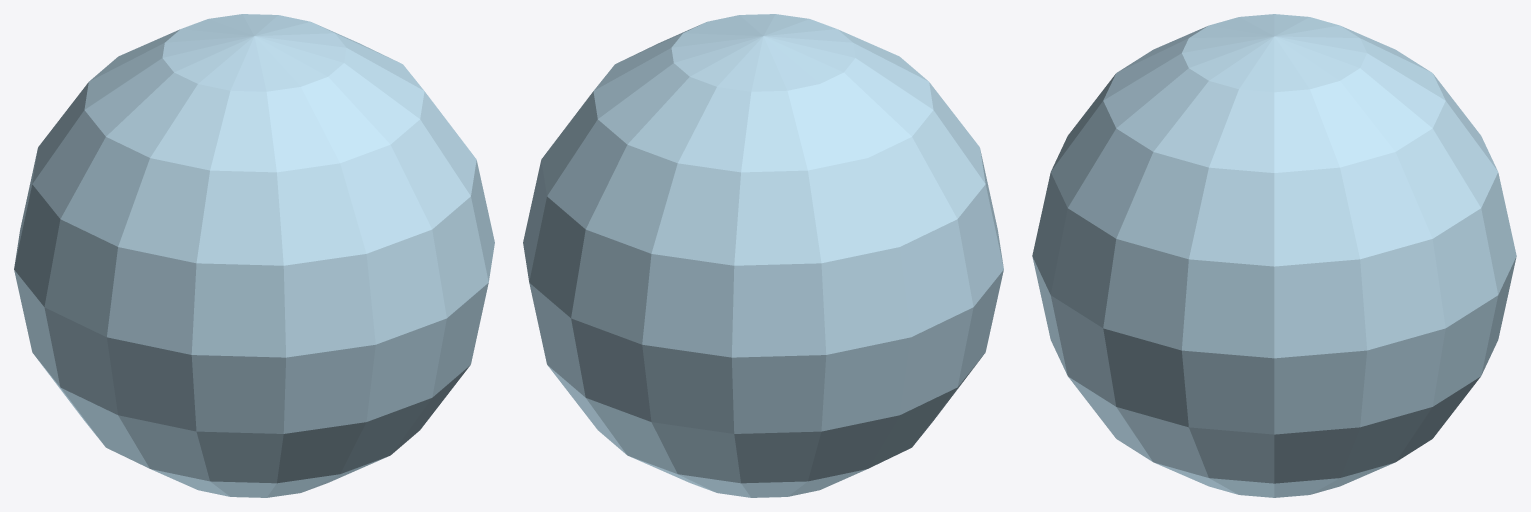
The model's file is park.glb.
The picture shows the model from 3 angles, left to right: view 1: azimuth 30°, elevation 25°; view 2: azimuth 150°, elevation 25°; view 3: azimuth 270°, elevation 25°; orthographic projection.
Parts seen in each view (by area): view 1: Sky; view 2: Sky; view 3: Sky.
Part boxes in pixels (x1,y1,x2,y2): Sky: [14, 14, 494, 497]; Sky: [523, 14, 1003, 497]; Sky: [1032, 14, 1516, 497].
Size of the model in its own units: 60 by 60 by 60.
